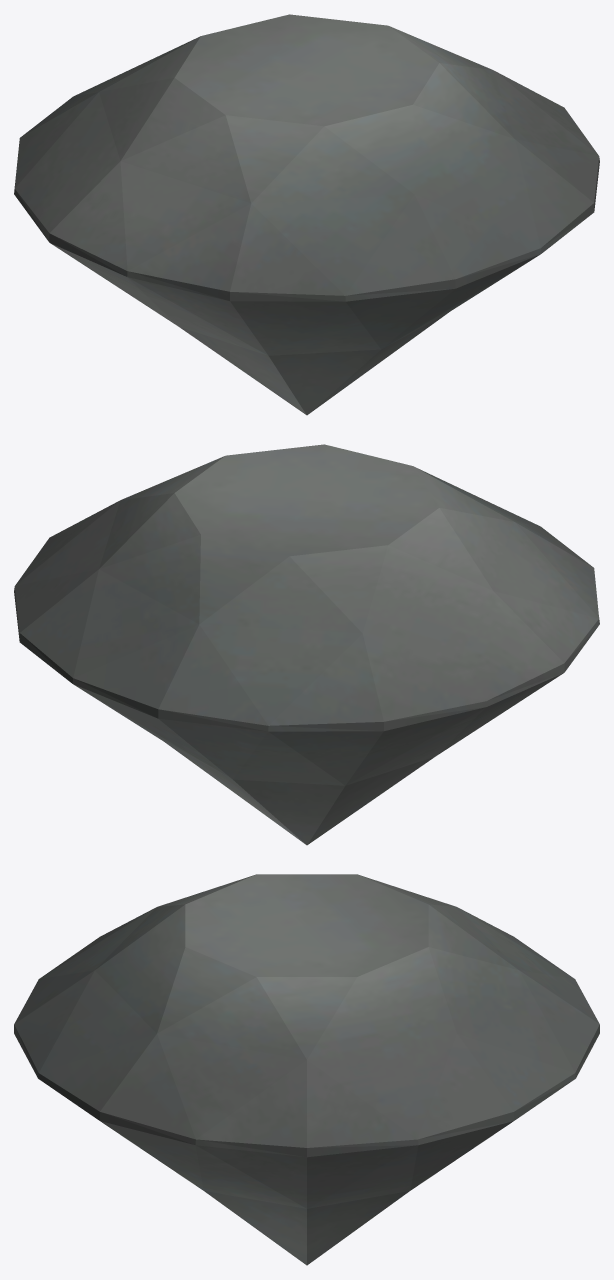
The model's file is White Chaos Emerald.obj.
3 views of the same model, one above another, from view 1: azimuth 30°, elevation 25°; view 2: azimuth 150°, elevation 25°; view 3: azimuth 270°, elevation 25° (orthographic).
Parts seen in each view (by area): view 1: Object01; view 2: Object01; view 3: Object01.
Part boxes in pixels (bbox=[...]): Object01: bbox=[14, 14, 599, 415]; Object01: bbox=[14, 444, 599, 845]; Object01: bbox=[14, 874, 599, 1265].
Size of the model in its own units: 151 by 96.96 by 151.
1 material, 1 textured.
